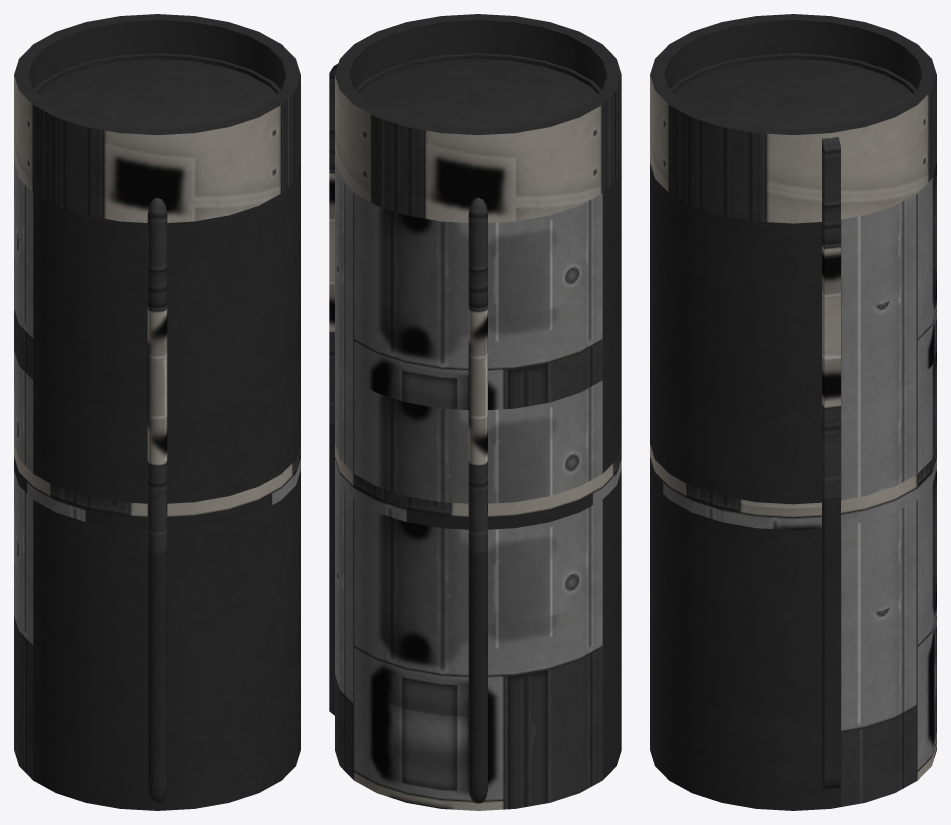
The model's file is fuel2.fbx.
3 renders of one model, left to right at view 1: azimuth 30°, elevation 25°; view 2: azimuth 150°, elevation 25°; view 3: azimuth 270°, elevation 25°, orthographic.
Visible parts, largest first — view 1: mesh; view 2: mesh; view 3: mesh.
Part boxes in pixels (x1,y1,x2,y2): mesh: [14, 14, 300, 810]; mesh: [329, 14, 621, 810]; mesh: [650, 14, 936, 810].
Bounding box in the file's own units: 2.55 × 6.5 × 2.5.
